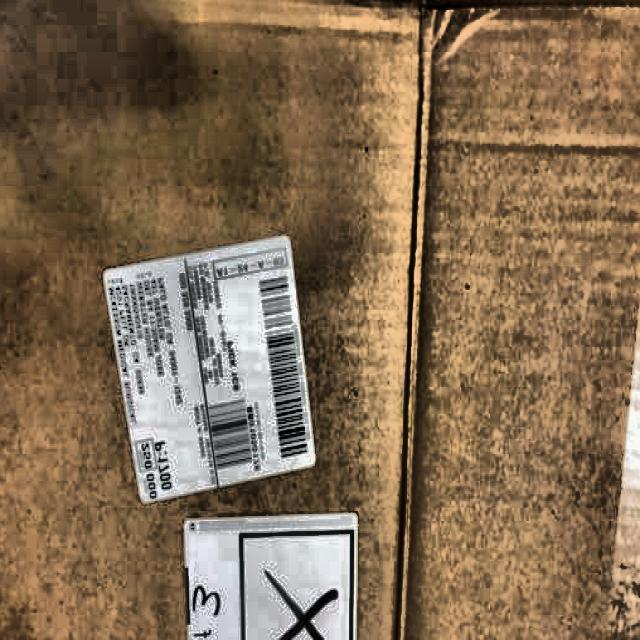cardboard: (396, 0, 640, 640), (104, 232, 318, 504)
